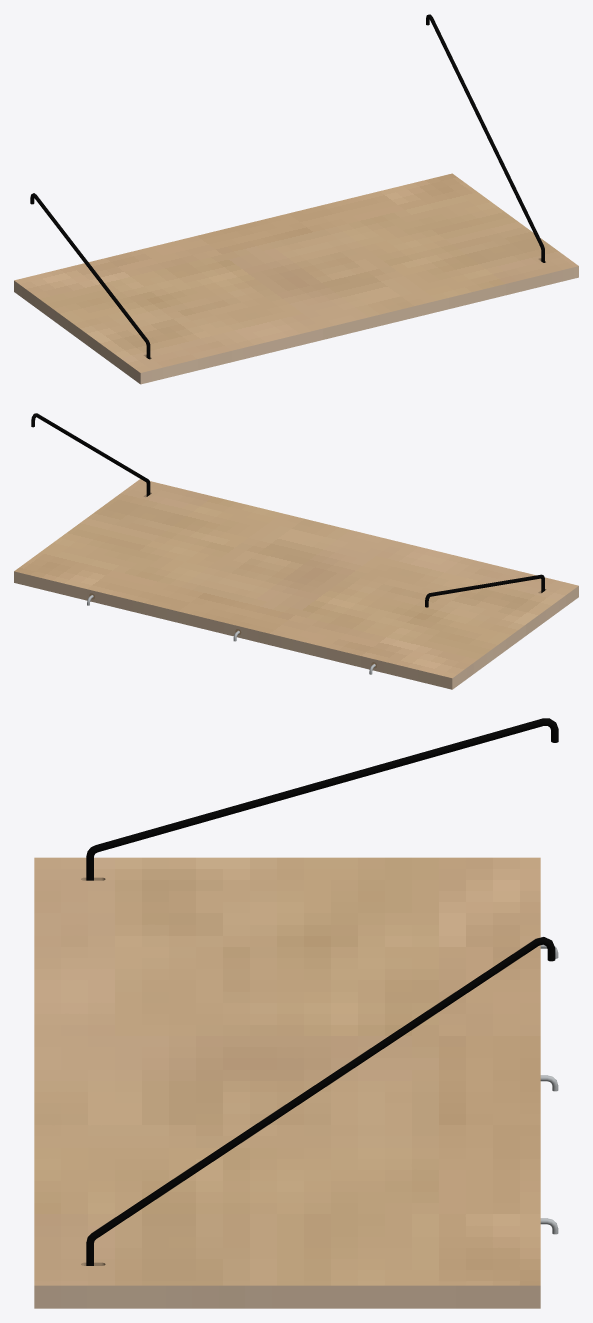
File: board60x30_t2_left.glb
3 views of the same model, one above another, from view 1: azimuth 30°, elevation 25°; view 2: azimuth 150°, elevation 25°; view 3: azimuth 270°, elevation 25° (orthographic). The views are drawn at different scales.
Parts seen in each view (by area): view 1: Geom3D (×4); view 2: Geom3D (×4); view 3: Geom3D (×4).
Part boxes in pixels (x1=…): Geom3D (×4): x1=14, y1=14, x2=578, y2=384; Geom3D (×4): x1=14, y1=413, x2=578, y2=689; Geom3D (×4): x1=34, y1=718, x2=558, y2=1308.
Size of the model in its own units: 0.6 by 0.2296 by 0.3108.
4 materials, 3 textured.
